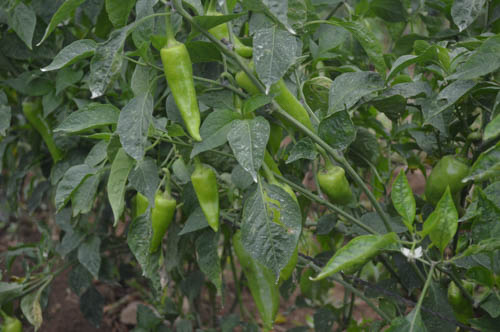ChiliPepper: (236, 69, 324, 130), (158, 44, 202, 148), (236, 232, 282, 321), (260, 184, 307, 268), (189, 169, 224, 232), (427, 158, 463, 212), (145, 193, 174, 253), (316, 164, 352, 204), (134, 192, 149, 218)
